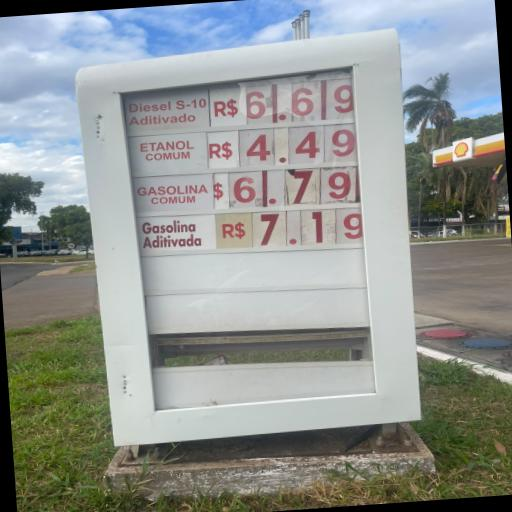ETANOL: (136, 135, 200, 164)
GASOLINA AD: (139, 218, 211, 252)
GASOLINA C: (135, 179, 211, 208)
S10: (128, 91, 210, 130)
placa: (125, 67, 370, 267)
preco: (247, 76, 356, 127), (230, 167, 356, 208), (240, 123, 359, 166), (252, 209, 364, 246)
